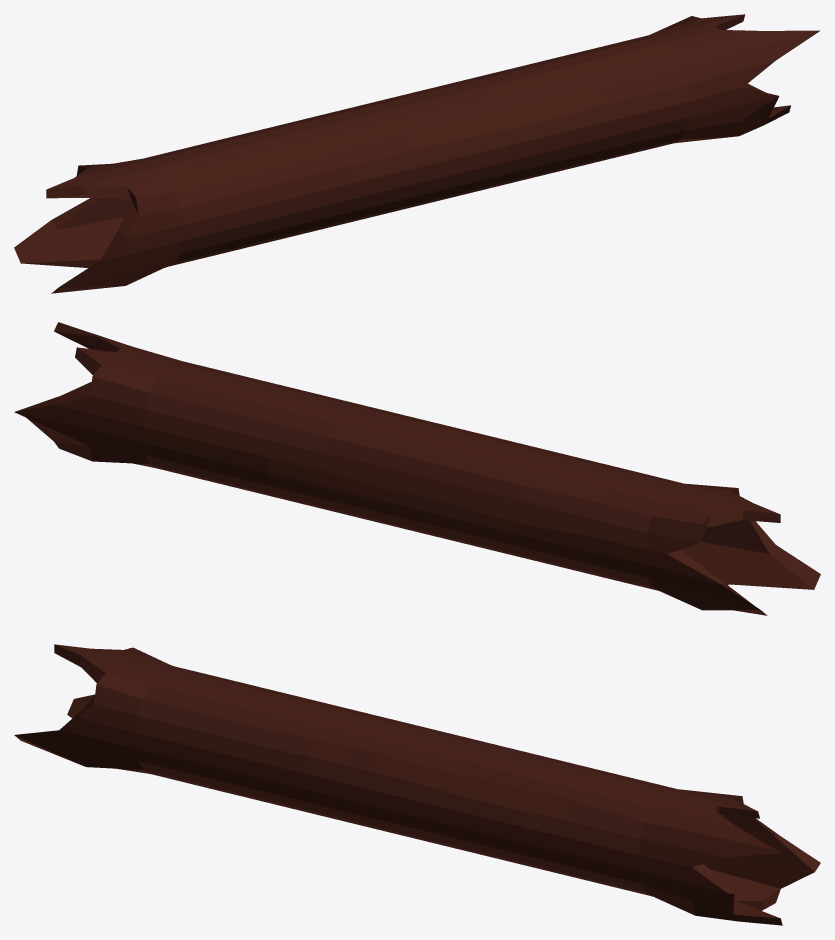
File: Log.fbx
3 views of the same model, one above another, from view 1: azimuth 30°, elevation 25°; view 2: azimuth 150°, elevation 25°; view 3: azimuth 330°, elevation 25° (orthographic).
Parts seen in each view (by area): view 1: log1; view 2: log1; view 3: log1.
Part boxes in pixels (x1=…): log1: x1=14, y1=14, x2=820, y2=293; log1: x1=14, y1=322, x2=820, y2=615; log1: x1=14, y1=644, x2=820, y2=925.
Bounding box in the file's own units: 506 × 62.9 × 64.01.
